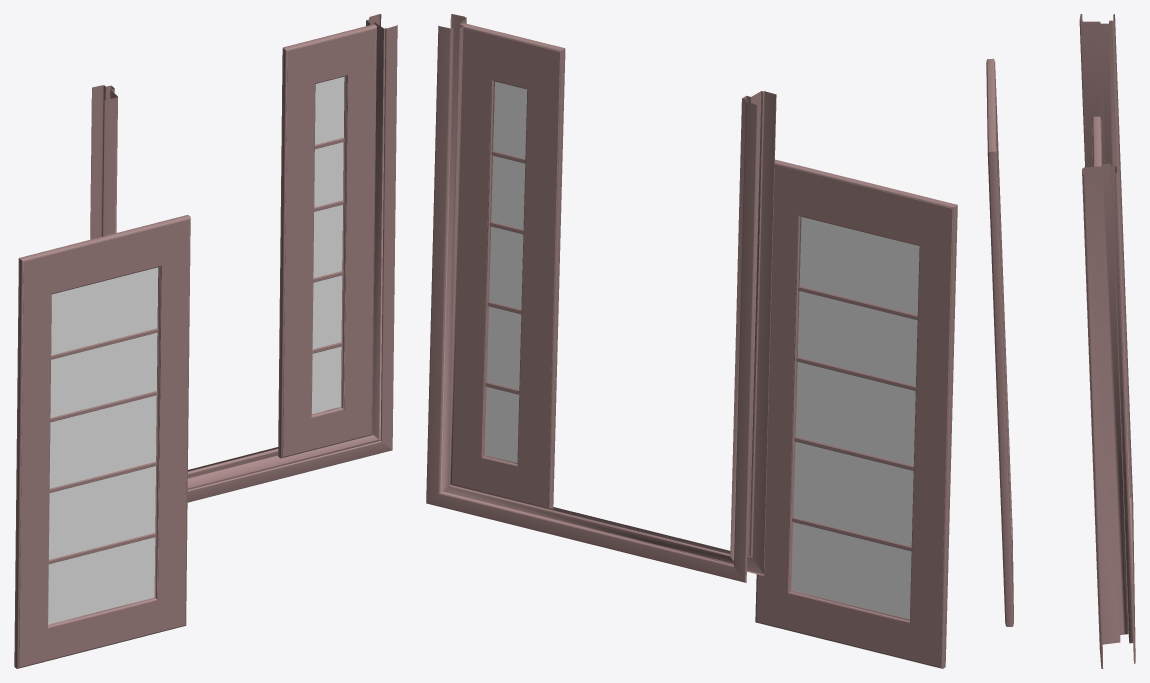
3 renders of one model, left to right at view 1: azimuth 30°, elevation 25°; view 2: azimuth 150°, elevation 25°; view 3: azimuth 270°, elevation 25°, orthographic. The views are drawn at different scales.
Visible parts, largest first — view 1: 문짝1, Panel161; view 2: 문짝1, Panel161; view 3: Panel161, 문짝1.
Part boxes in pixels (bbox=[...]): 문짝1: bbox=[14, 215, 190, 668]; Panel161: bbox=[90, 14, 397, 502]; 문짝1: bbox=[755, 159, 957, 668]; Panel161: bbox=[426, 14, 776, 582]; Panel161: bbox=[1079, 14, 1135, 668]; 문짝1: bbox=[986, 58, 1013, 626].
Size of the model in its own units: 223 by 262 by 59.97.
